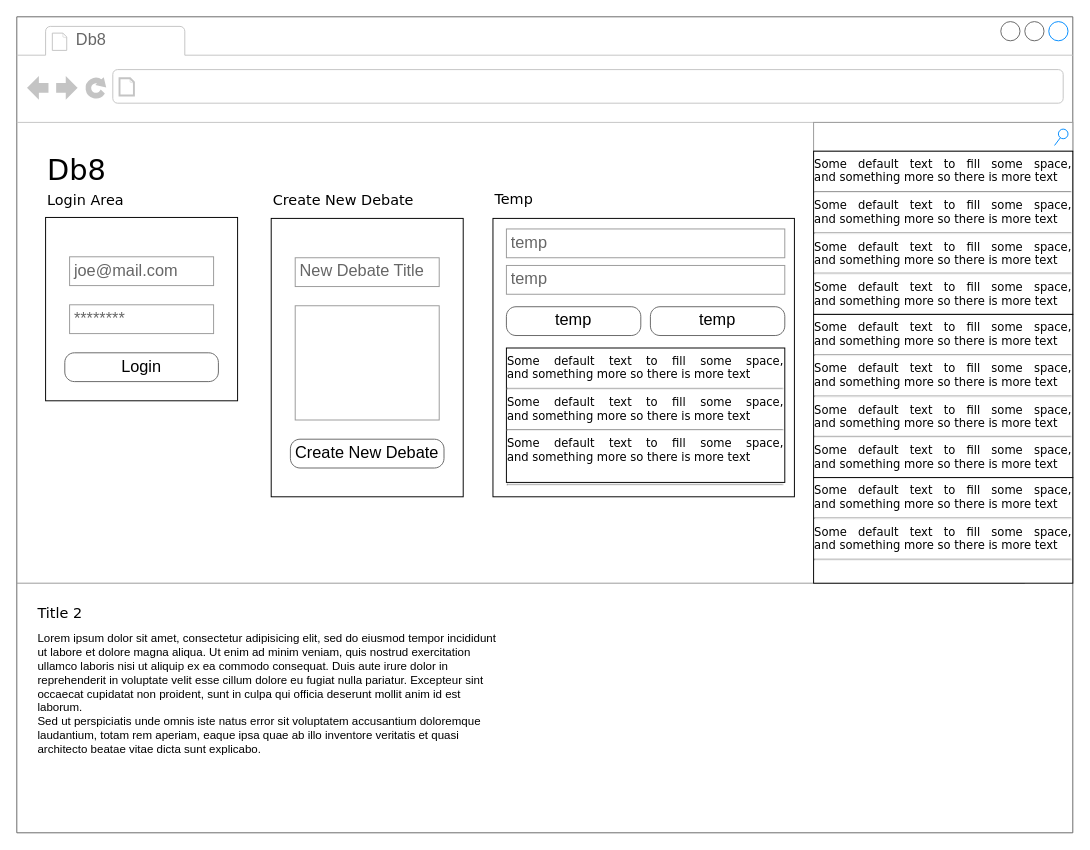
The diagram is 1090 pixels wide and 850 high, and some of its shapes have lost their labels. Each missing label, with the centre of its shape:
Debate Description: [366,362]
https://www.db8.com: [261,86]
Search Past Debates: [943,136]
